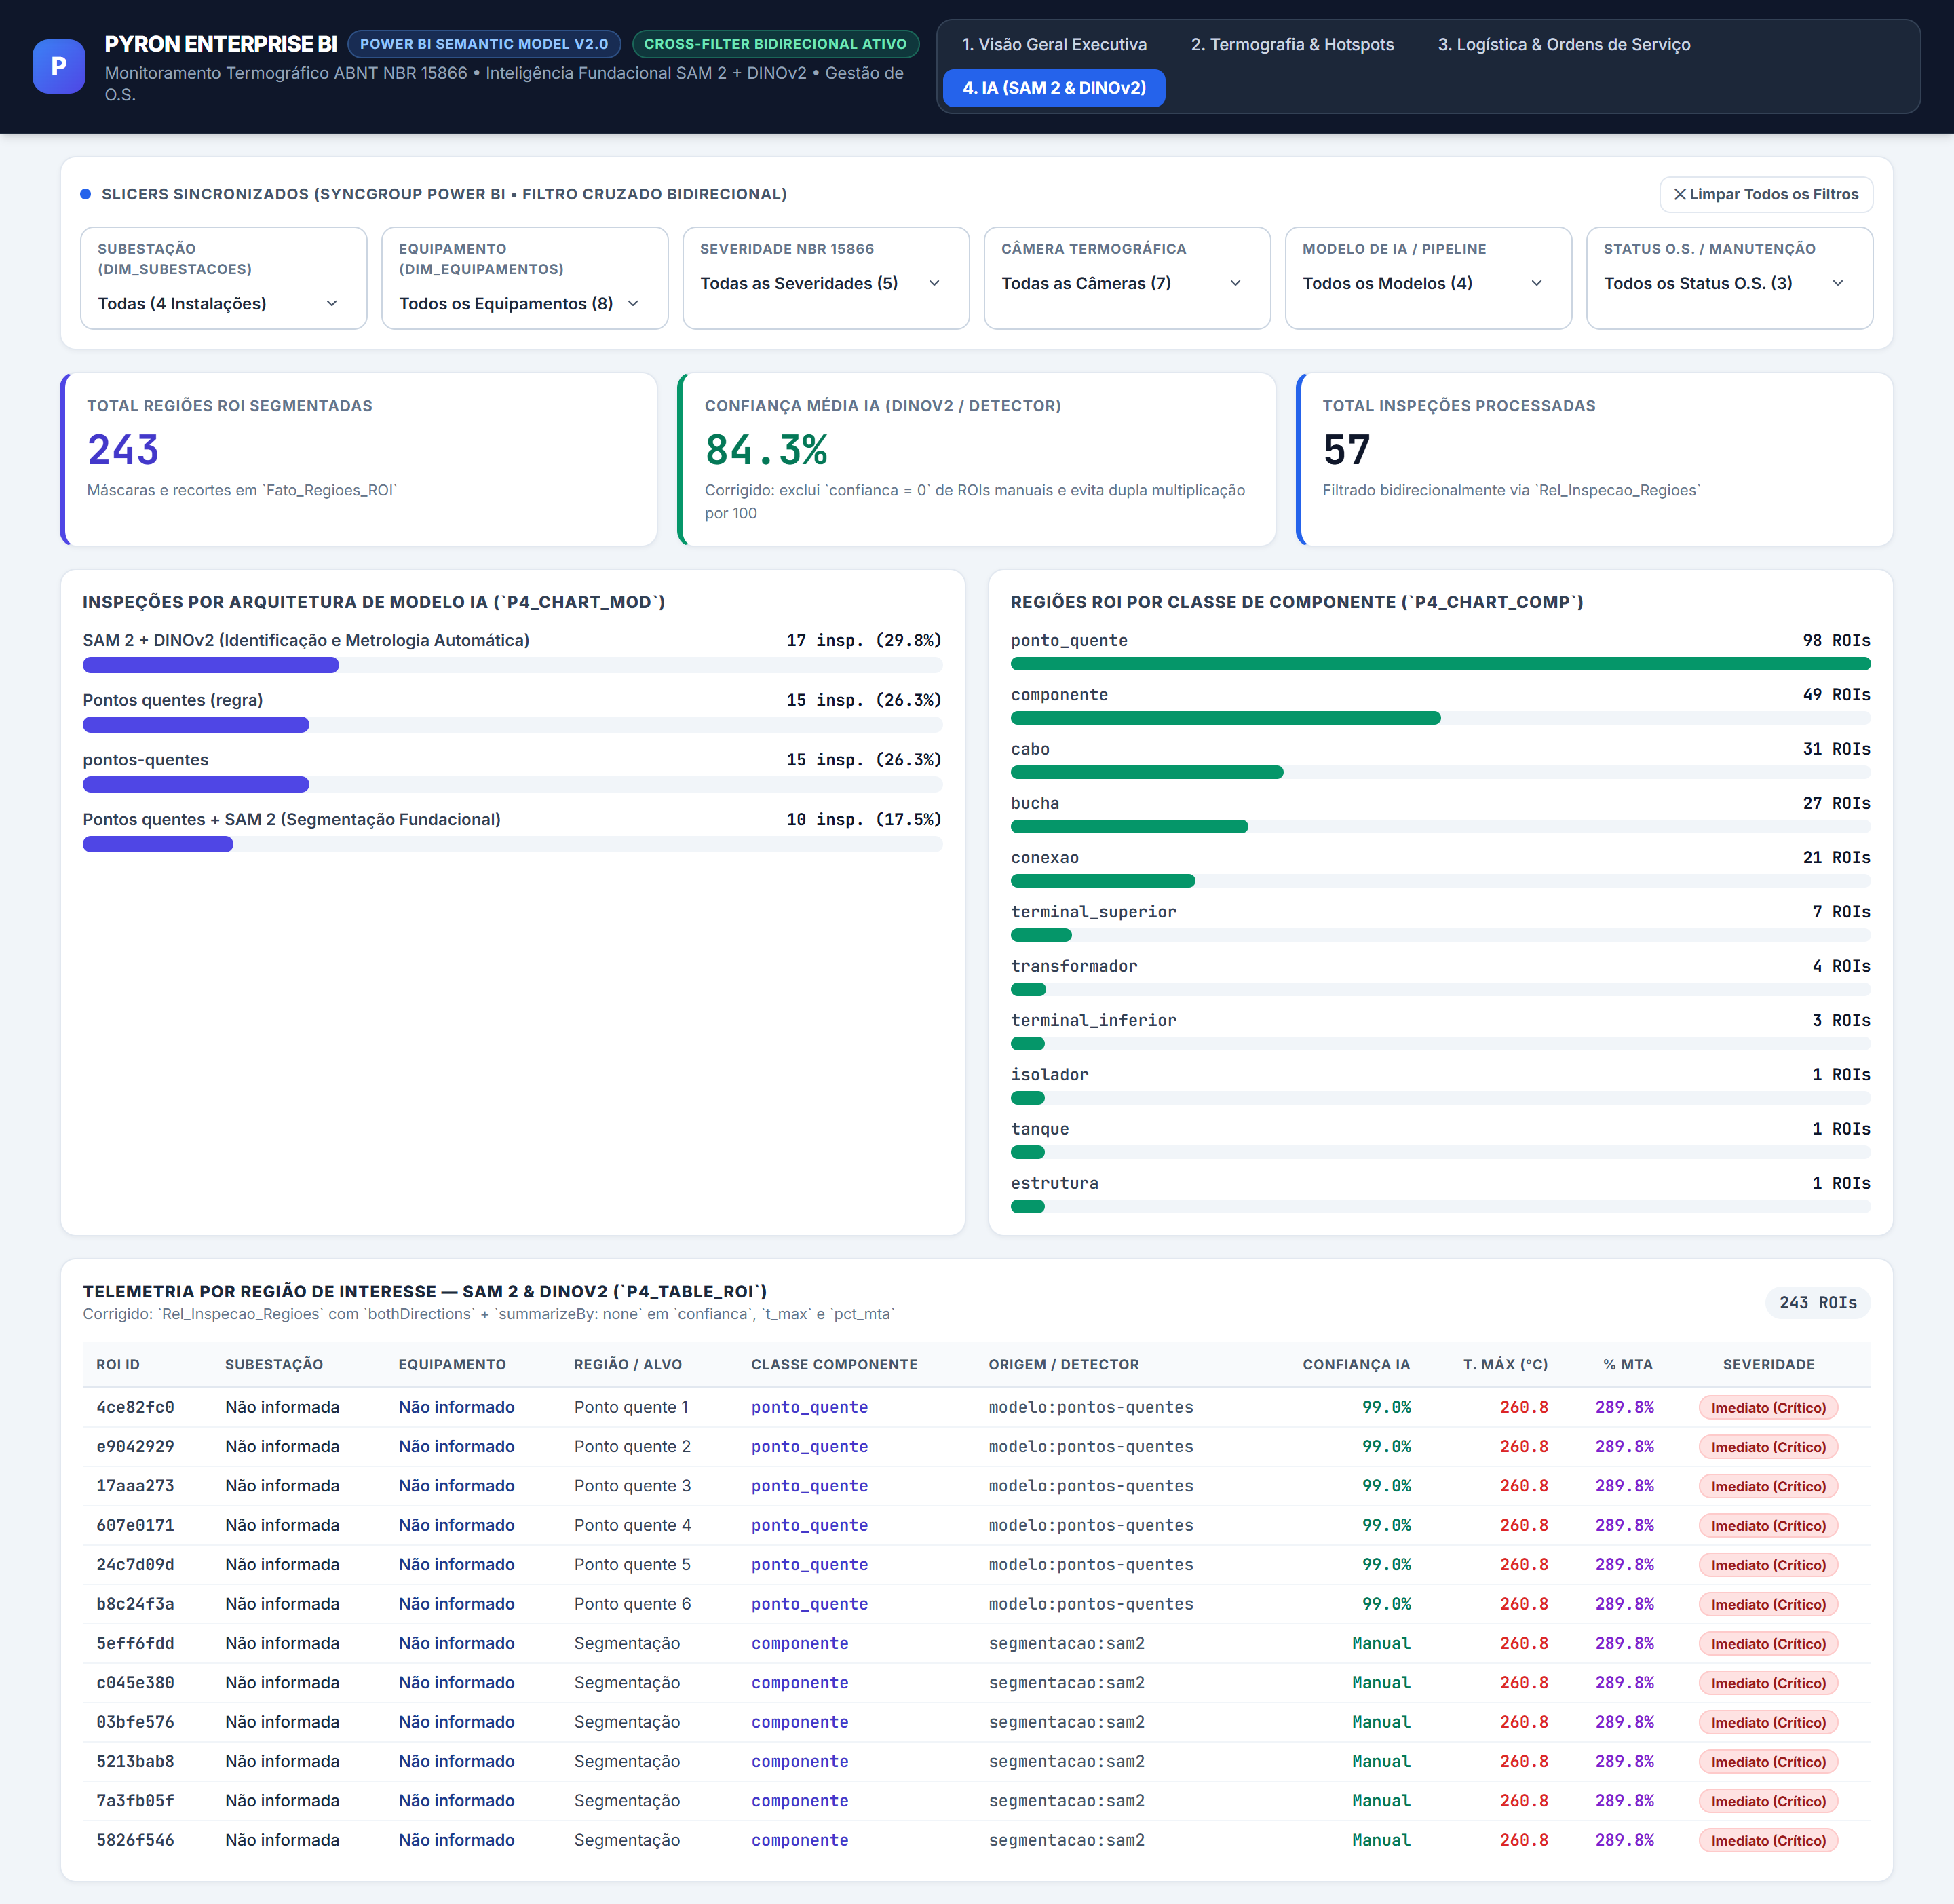

Layout of this report page (visuals, bound fields, positions):
{"tool":"powerbi","page":{"name":"4. IA (SAM 2 & DINOv2)","canvas":[1280,720],"ordinal":3},"visuals":[{"type":"card","fields":{"Values":["_Medidas.Total Regiões ROI"]},"box":[20,15,195,110],"z":100},{"type":"card","fields":{"Values":["_Medidas.Confiança Média IA"]},"box":[225,15,195,110],"z":200},{"type":"card","fields":{"Values":["_Medidas.Total Inspeções"]},"box":[430,15,195,110],"z":300},{"type":"slicer","fields":{"Values":["Dim_Subestacoes.instalacao"]},"box":[640,15,200,110],"z":350},{"type":"slicer","fields":{"Values":["Fato_Inspecoes.modelo"]},"box":[850,15,195,110],"z":380},{"type":"slicer","fields":{"Values":["Fato_Regioes_ROI.classe_componente"]},"box":[1055,15,205,110],"z":390},{"type":"clusteredColumnChart","fields":{"Category":["Fato_Inspecoes.modelo"],"Y":["_Medidas.Total Inspeções"]},"box":[20,140,610,260],"z":400},{"type":"clusteredBarChart","fields":{"Category":["Fato_Regioes_ROI.classe_componente"],"Y":["_Medidas.Total Regiões ROI"]},"box":[650,140,610,260],"z":500},{"type":"tableEx","fields":{"Values":["Fato_Regioes_ROI.regiao_id","Fato_Regioes_ROI.instalacao","Fato_Regioes_ROI.equipamento","Fato_Regioes_ROI.regiao_nome","Fato_Regioes_ROI.classe_componente","Fato_Regioes_ROI.origem","Fato_Regioes_ROI.confianca","Fato_Regioes_ROI.t_max","Fato_Regioes_ROI.pct_mta","Fato_Regioes_ROI.severidade"]},"box":[20,415,1240,285],"z":600}]}

Visuals, with their boxes on the page's 1280x720 design canvas (x1, y1, x2, y2). These are canvas units, not pixel positions in the 1954x1904 screenshot, which may show the page scaled, cropped or inside an application window:
card - _Medidas.Total Regiões ROI: (left=20, top=15, right=215, bottom=125)
card - _Medidas.Confiança Média IA: (left=225, top=15, right=420, bottom=125)
card - _Medidas.Total Inspeções: (left=430, top=15, right=625, bottom=125)
slicer - Dim_Subestacoes.instalacao: (left=640, top=15, right=840, bottom=125)
slicer - Fato_Inspecoes.modelo: (left=850, top=15, right=1045, bottom=125)
slicer - Fato_Regioes_ROI.classe_componente: (left=1055, top=15, right=1260, bottom=125)
clusteredColumnChart - Fato_Inspecoes.modelo x _Medidas.Total Inspeções: (left=20, top=140, right=630, bottom=400)
clusteredBarChart - Fato_Regioes_ROI.classe_componente x _Medidas.Total Regiões ROI: (left=650, top=140, right=1260, bottom=400)
tableEx - Fato_Regioes_ROI.regiao_id x Fato_Regioes_ROI.instalacao: (left=20, top=415, right=1260, bottom=700)
